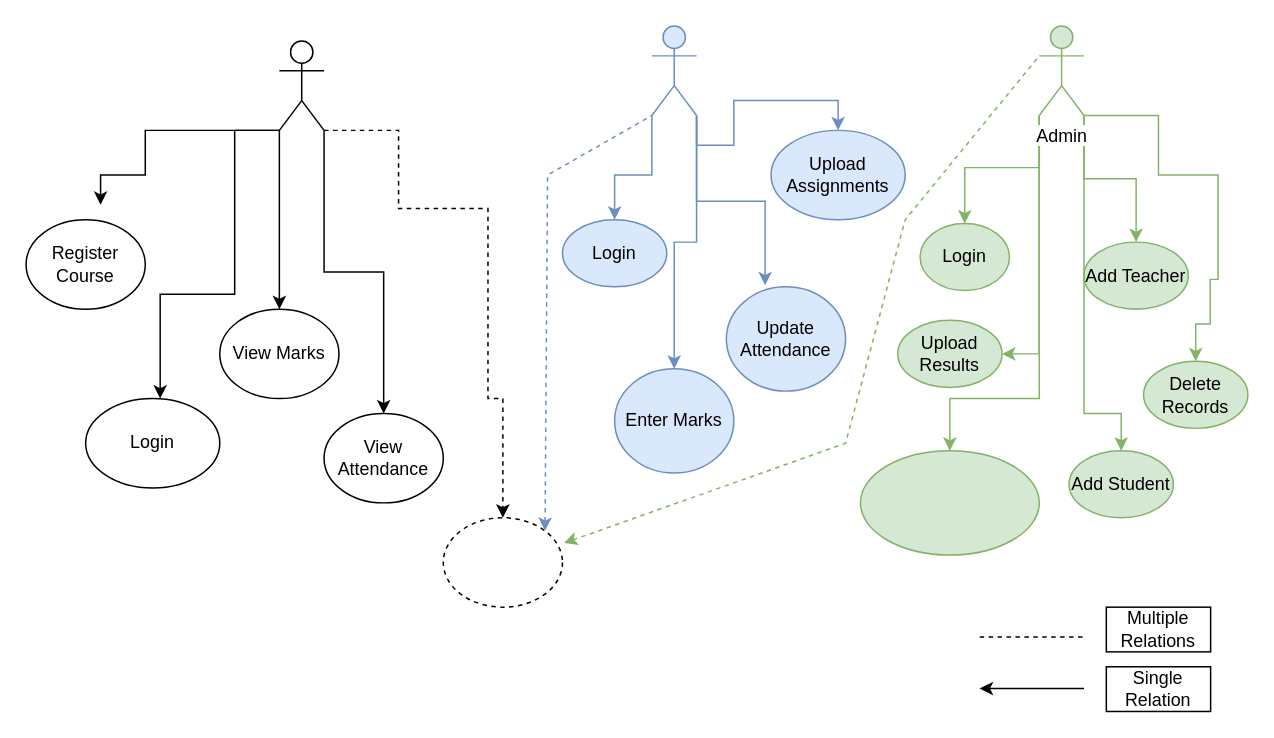
Image size: 1274x738. Some labels were removed from this diagram. Each missing label, with the centre of its shape:
Manage Teacher, Student Accounts: the point at 949,502
Student: the point at 301,84
Teacher: the point at 673,70
View Profile: the point at 502,561
